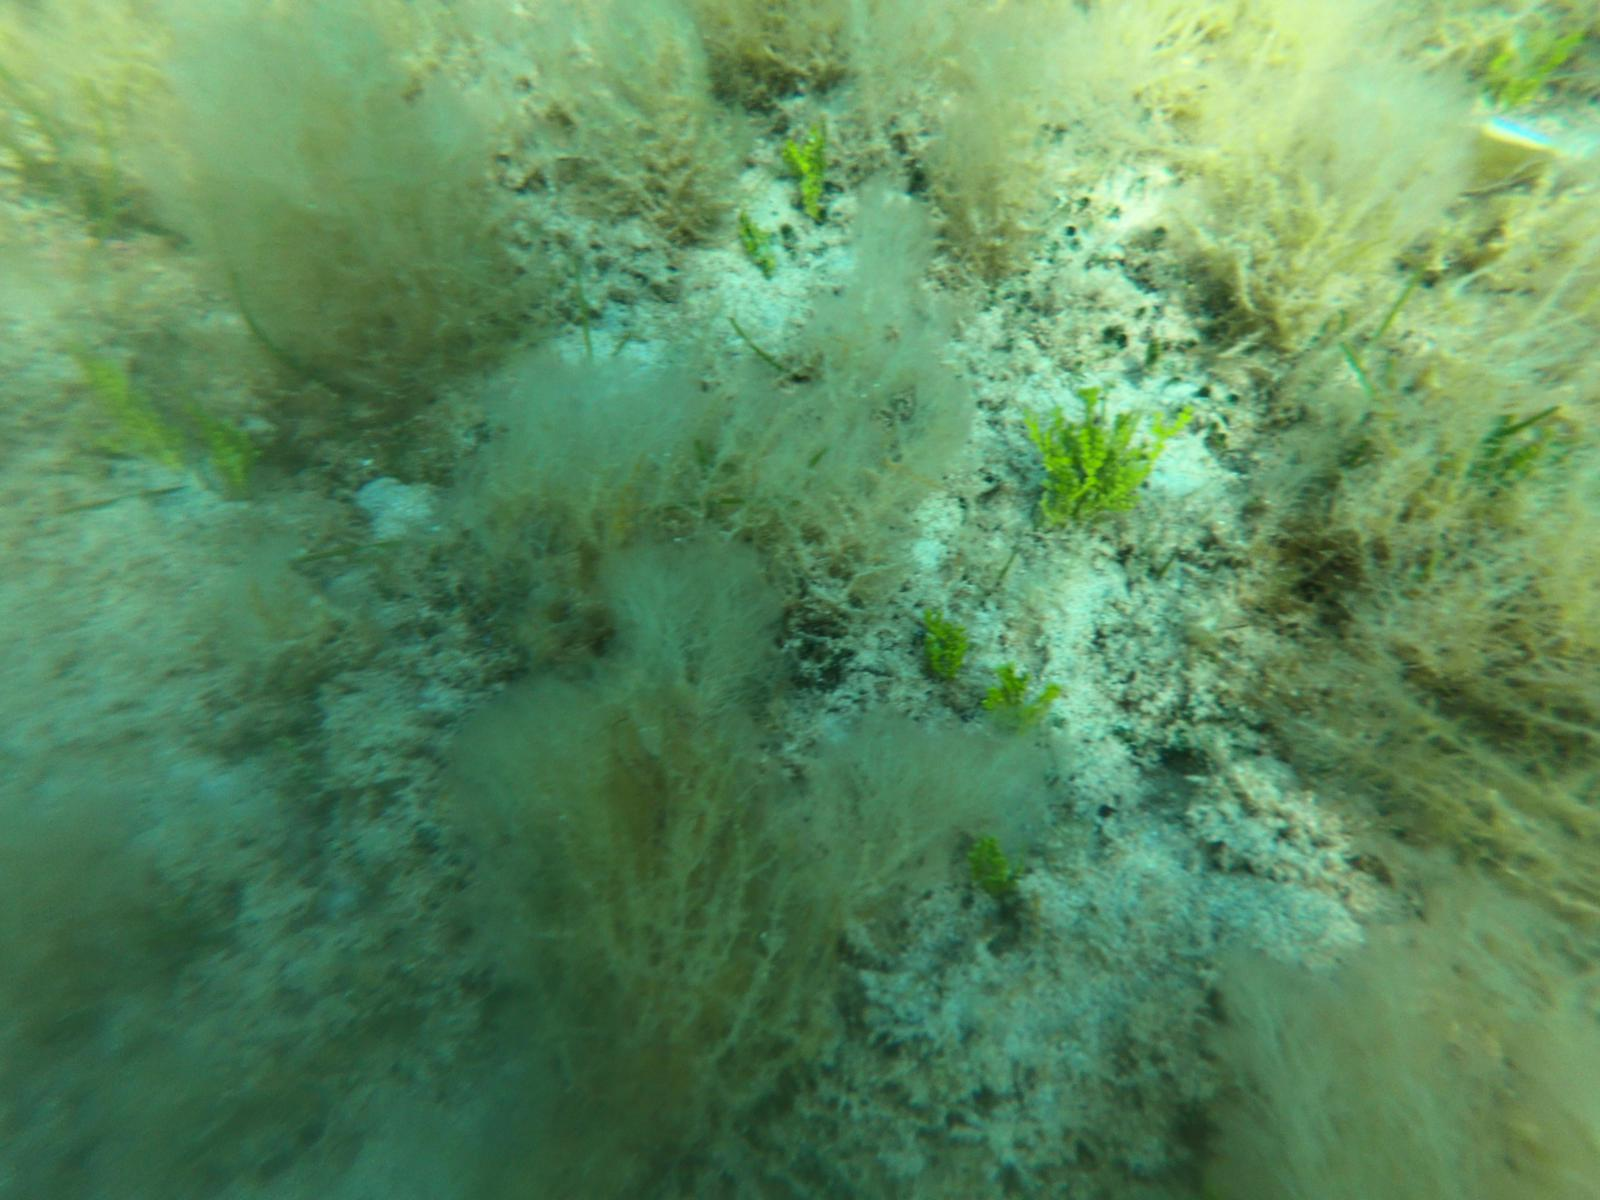halimeda: (1023, 373, 1186, 524), (86, 359, 176, 468), (782, 129, 839, 221), (973, 664, 1056, 726), (912, 597, 973, 682), (210, 418, 256, 502), (959, 834, 1010, 897), (740, 216, 776, 275)
